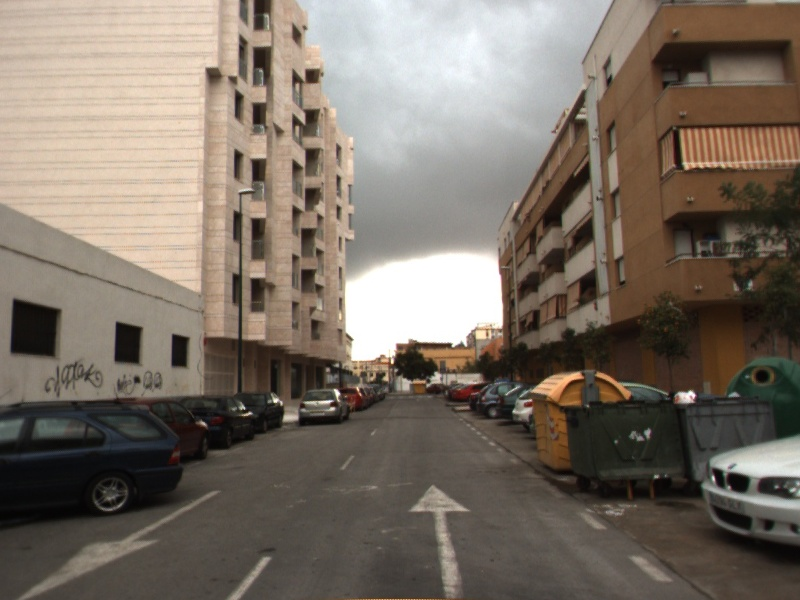STRAIGHT: (405, 480, 474, 600)
